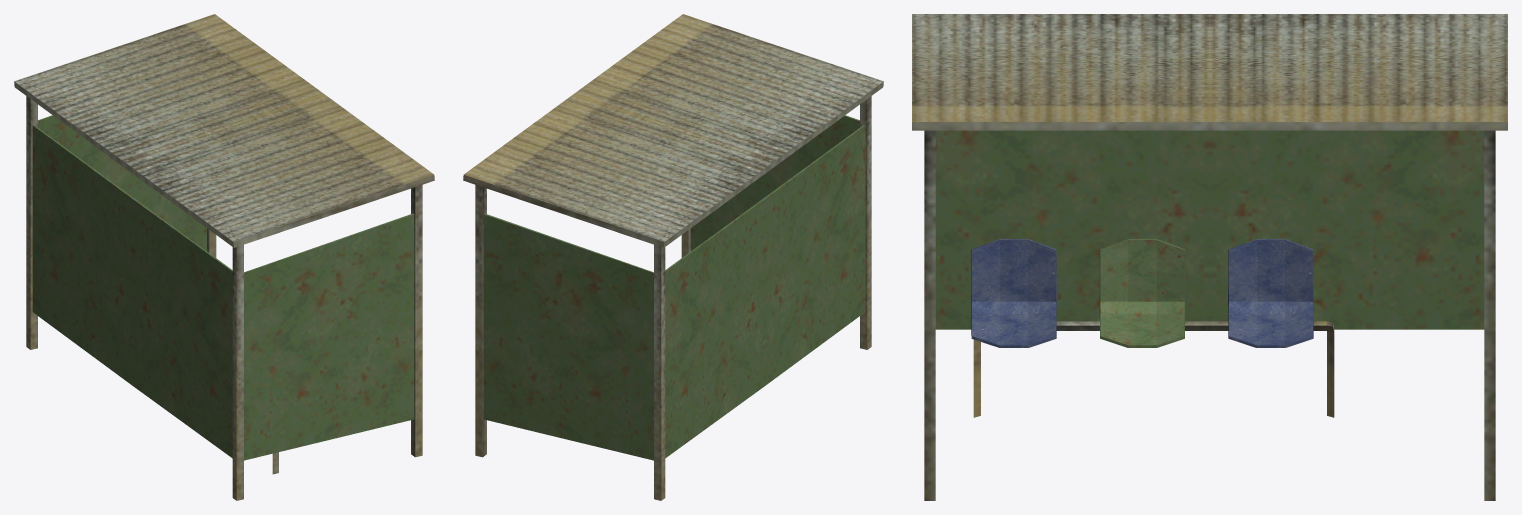
Rendered from Urban_BusstopCleanSeatsAlt_Model.fbx.
3 renders of one model, left to right at view 1: azimuth 30°, elevation 25°; view 2: azimuth 150°, elevation 25°; view 3: azimuth 270°, elevation 25°, orthographic. The views are drawn at different scales.
Visible parts, largest first — view 1: Urban_BusstopCleanSeatsAlt_Mesh; view 2: Urban_BusstopCleanSeatsAlt_Mesh; view 3: Urban_BusstopCleanSeatsAlt_Mesh.
Boxes of the visible parts, box(x1,y1,x2,y2) form: Urban_BusstopCleanSeatsAlt_Mesh: box(14, 14, 434, 500); Urban_BusstopCleanSeatsAlt_Mesh: box(463, 14, 883, 500); Urban_BusstopCleanSeatsAlt_Mesh: box(912, 14, 1507, 500).
Size of the model in its own units: 2.26 by 3.03 by 4.26.
